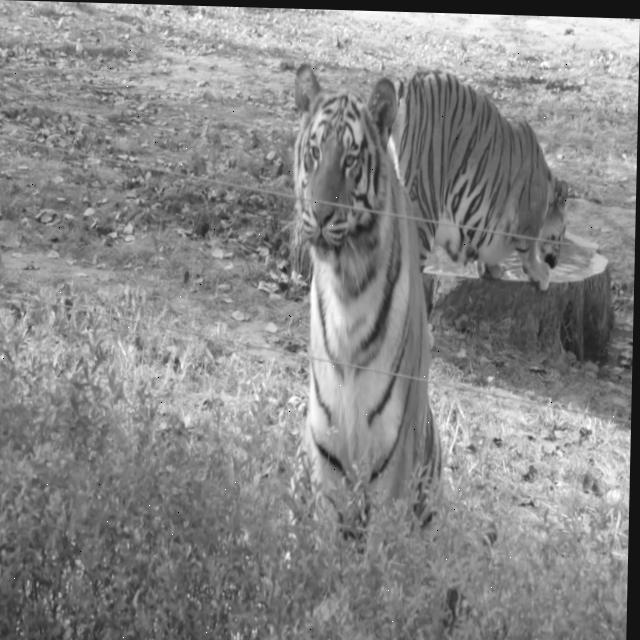Tiger: (278, 61, 571, 576)
